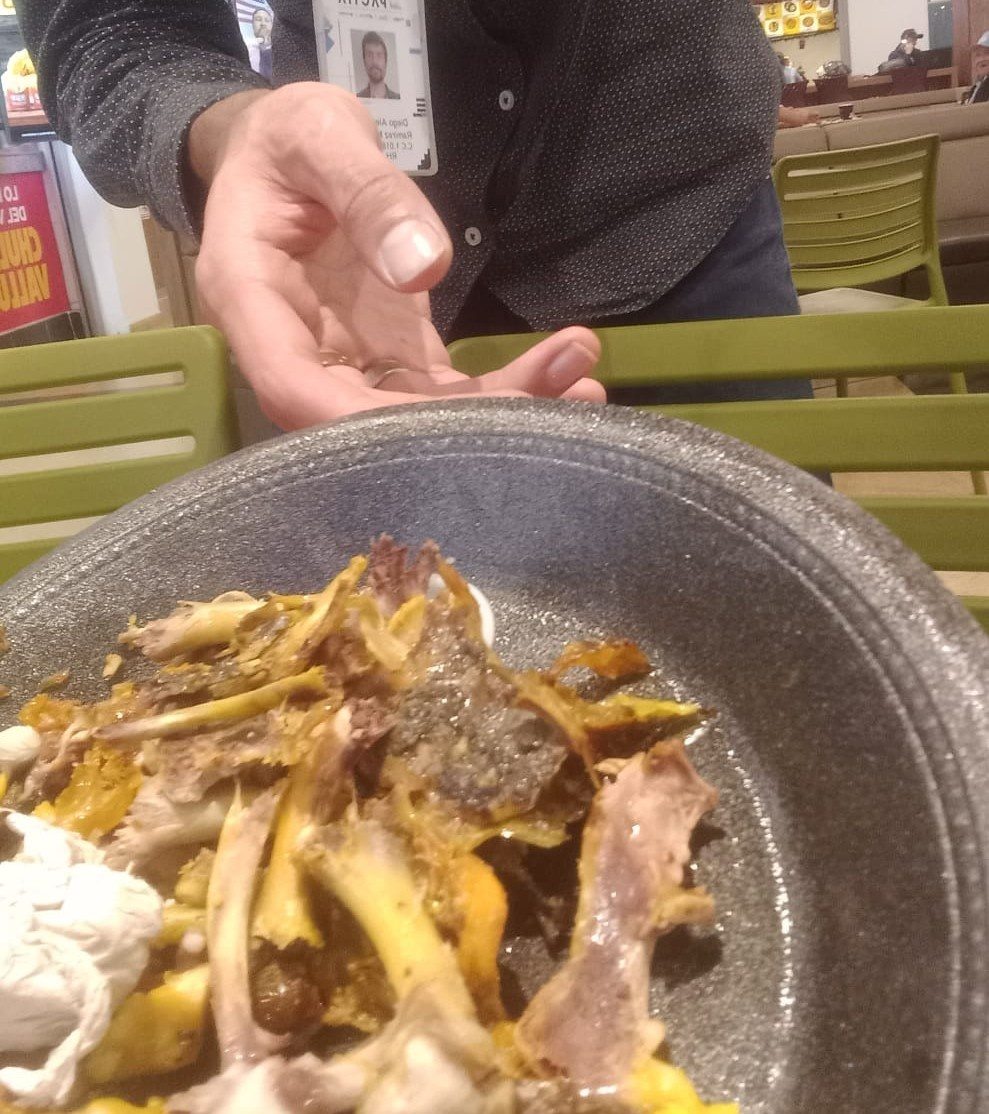Organico: (0, 534, 732, 1114)
